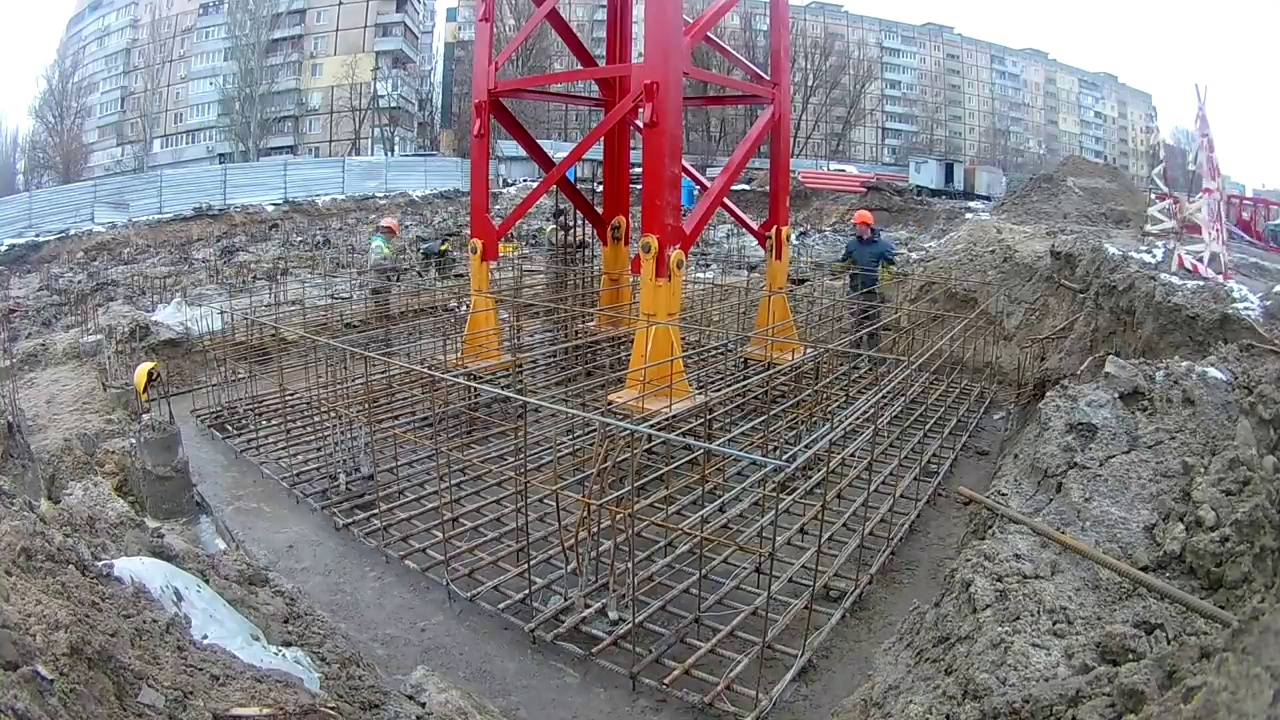helmet: (132, 360, 158, 404), (849, 208, 876, 227), (378, 217, 399, 236)
helmet-off: (552, 206, 572, 234)
helmet-on: (848, 208, 876, 243), (375, 217, 400, 244)
person: (838, 208, 896, 344), (362, 217, 401, 323), (544, 206, 591, 293)
